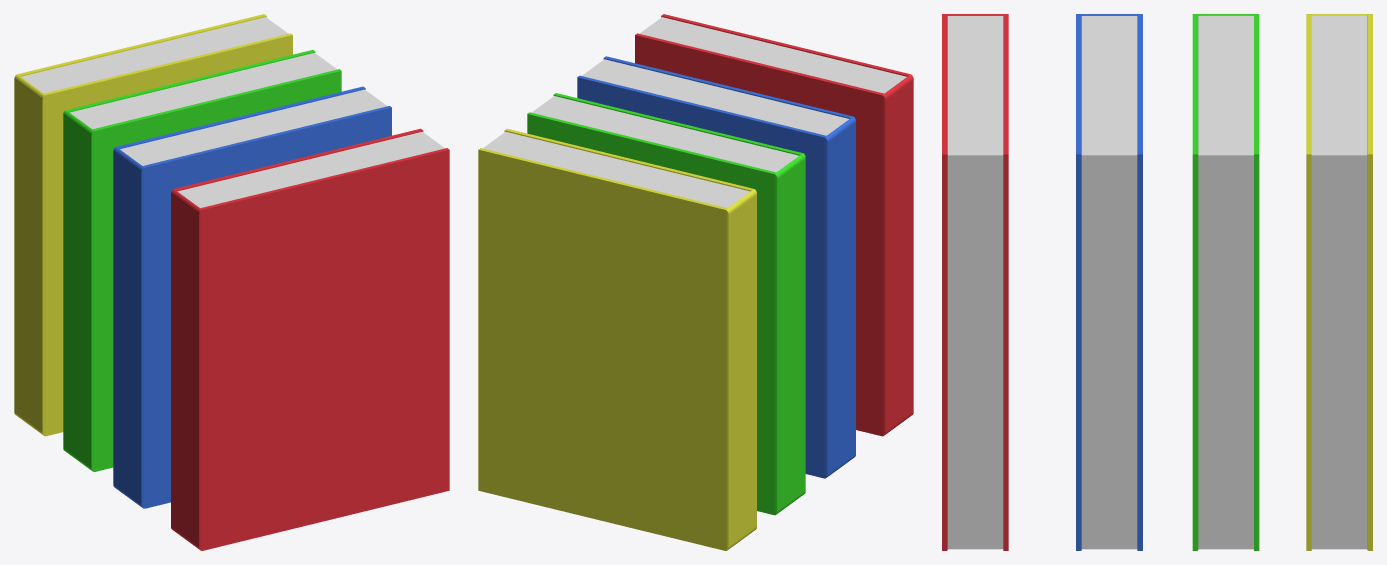
Rendered from Books.glb.
The picture shows the model from 3 angles, left to right: view 1: azimuth 30°, elevation 25°; view 2: azimuth 150°, elevation 25°; view 3: azimuth 270°, elevation 25°; orthographic projection. The views are drawn at different scales.
Visible parts, largest first — view 1: Red book, Blue book, Green book, Yellow book; view 2: Yellow book, Red book, Blue book, Green book; view 3: Green book, Red book, Blue book, Yellow book.
Boxes of the visible parts, x1,y1,x2,y2 form: Red book: [171, 128, 449, 550]; Blue book: [113, 86, 391, 508]; Green book: [63, 50, 341, 471]; Yellow book: [14, 14, 292, 436]; Yellow book: [478, 128, 756, 550]; Red book: [635, 14, 913, 436]; Blue book: [577, 56, 855, 478]; Green book: [527, 93, 805, 515]; Green book: [1192, 14, 1259, 550]; Red book: [942, 14, 1008, 550]; Blue book: [1076, 14, 1142, 550]; Yellow book: [1306, 14, 1372, 550].
Size of the model in its own units: 1.03 by 1.35 by 1.33.
